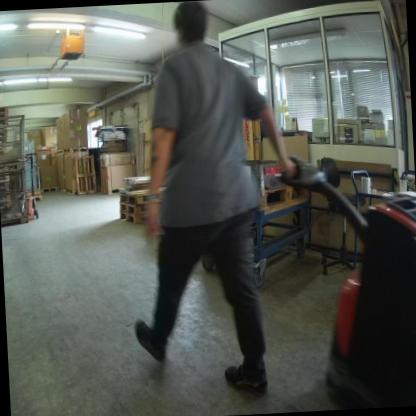pallet: (259, 183, 312, 215), (73, 154, 97, 195), (120, 209, 150, 226), (120, 190, 150, 205), (119, 200, 149, 215), (0, 214, 29, 228), (63, 144, 88, 154), (100, 185, 122, 194), (40, 185, 57, 194), (65, 187, 78, 196), (0, 105, 10, 114), (0, 184, 11, 191), (0, 114, 9, 122), (2, 194, 11, 202), (0, 121, 9, 128), (57, 186, 65, 192), (56, 149, 63, 155)
pallet_truck: (270, 137, 416, 410), (19, 148, 46, 221)
stillage: (0, 164, 33, 230), (0, 106, 29, 166)
